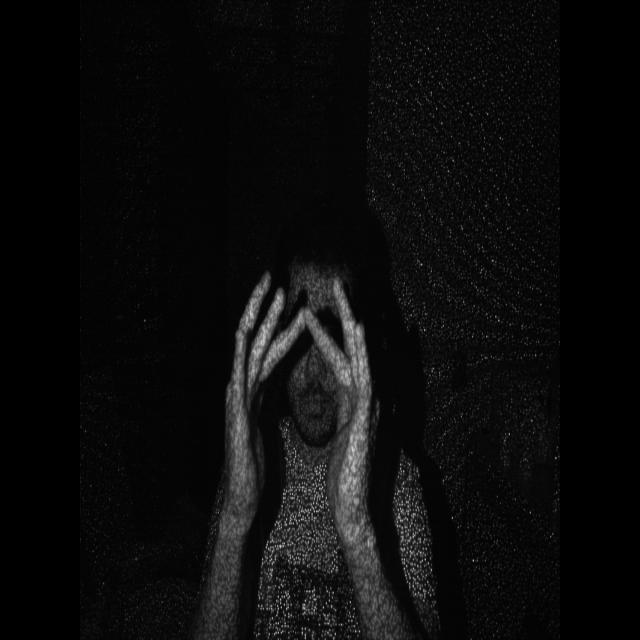REACH: (222, 253, 387, 535)
